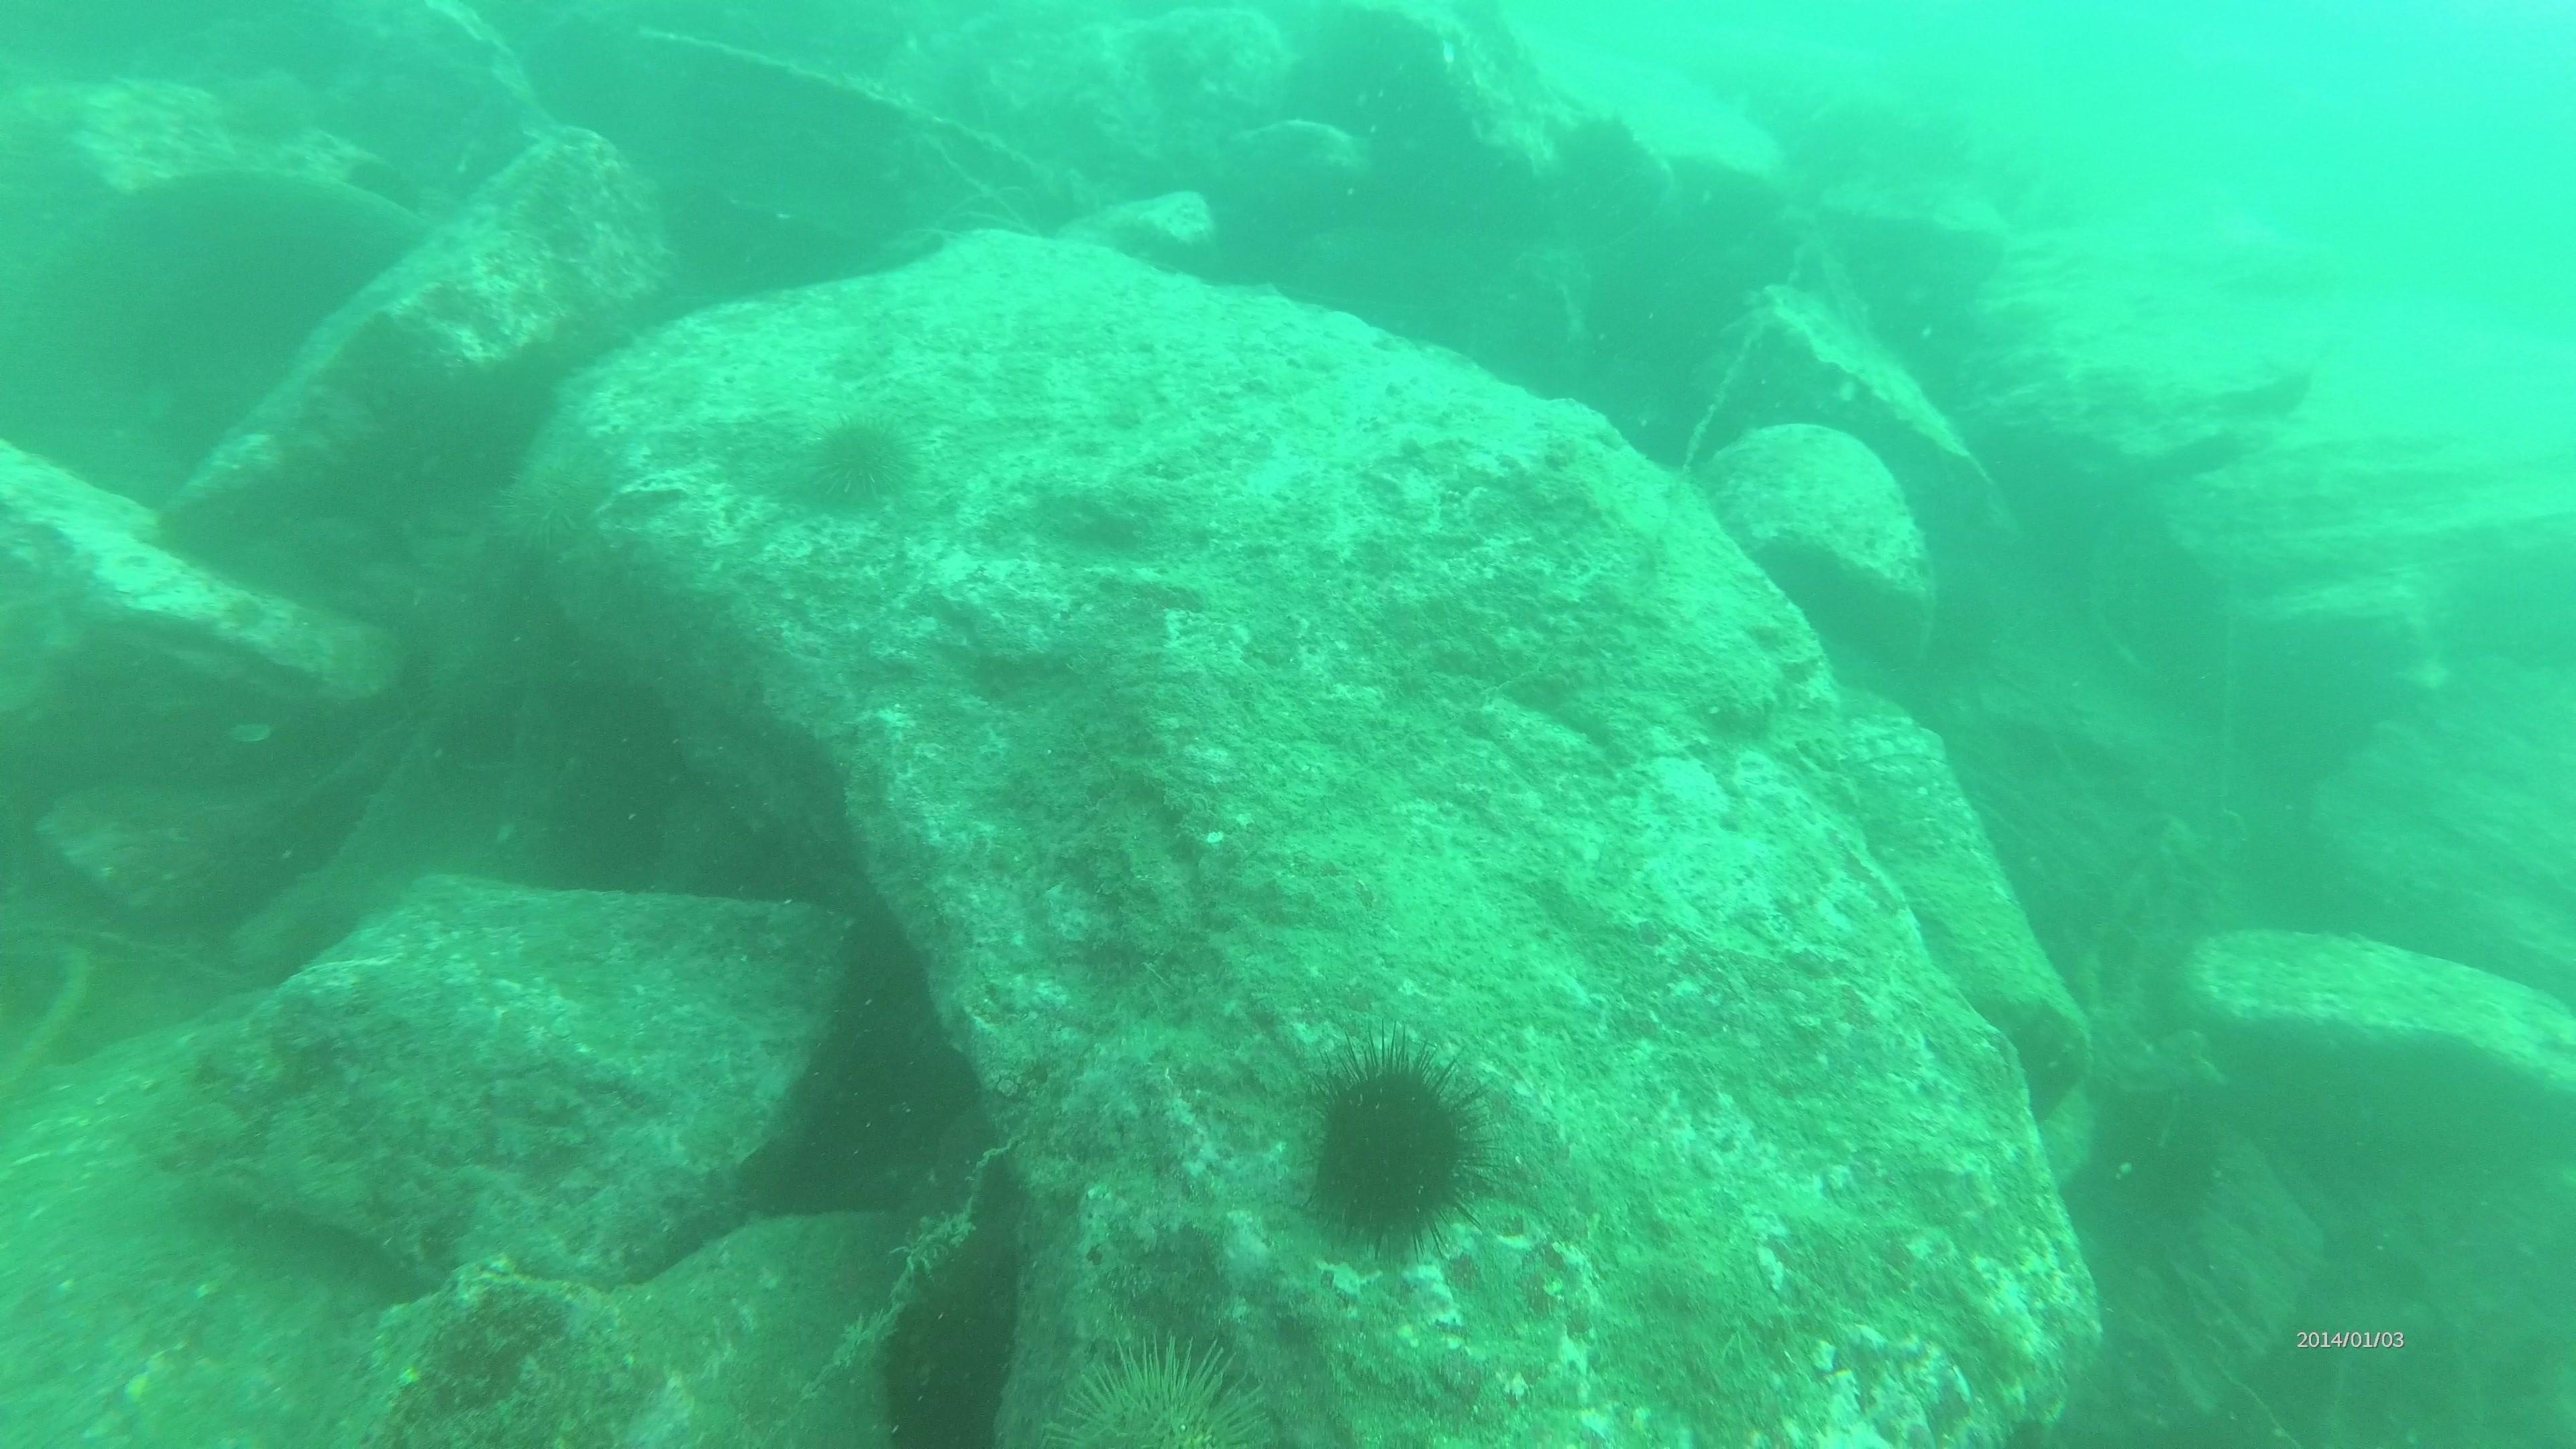echinus: (1290, 1039, 1497, 1260), (1044, 1334, 1276, 1444), (490, 423, 632, 566), (791, 409, 922, 522)
